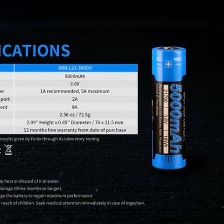battery: (147, 43, 191, 172)
